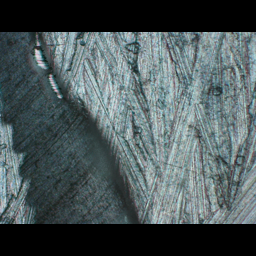d: (0, 32, 150, 223)
